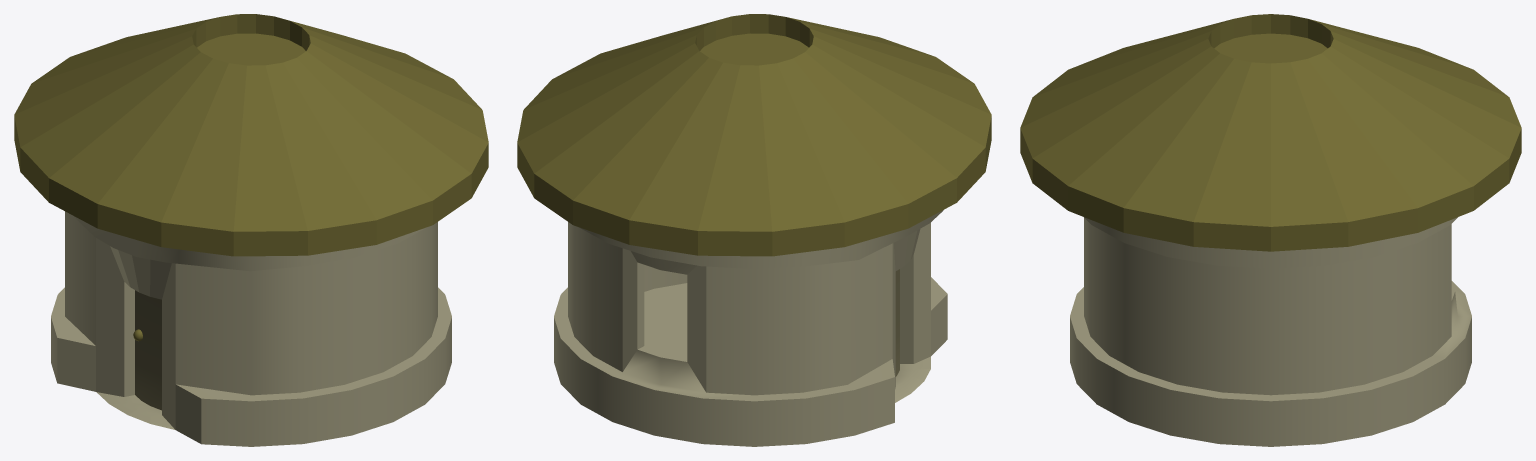
File: Tutorial House.fbx
The picture shows the model from 3 angles, left to right: view 1: azimuth 30°, elevation 25°; view 2: azimuth 150°, elevation 25°; view 3: azimuth 270°, elevation 25°; orthographic projection.
Parts seen in each view (by area): view 1: pCylinder3; view 2: pCylinder3; view 3: pCylinder3.
Boxes of the visible parts, x1,y1,x2,y2 form: pCylinder3: (14,14,488,446); pCylinder3: (517,14,991,446); pCylinder3: (1020,14,1521,446).
Bounding box in the file's own units: 28.21 × 21.49 × 30.19.
